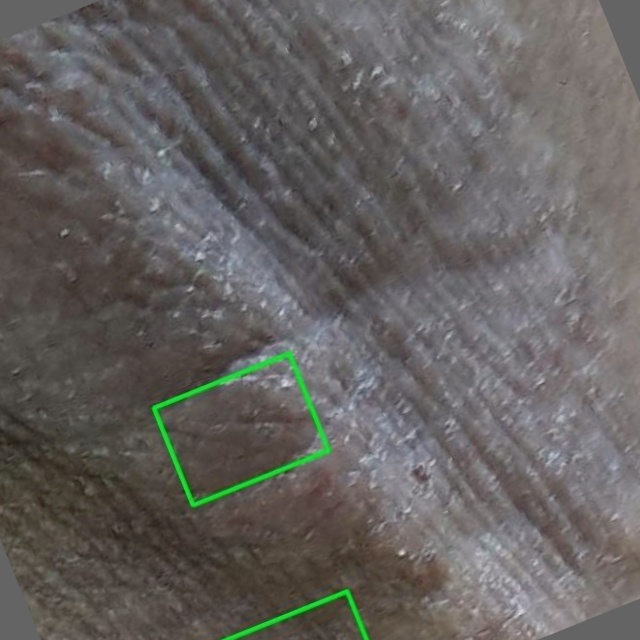Tinea Corporis: (153, 353, 328, 505)
